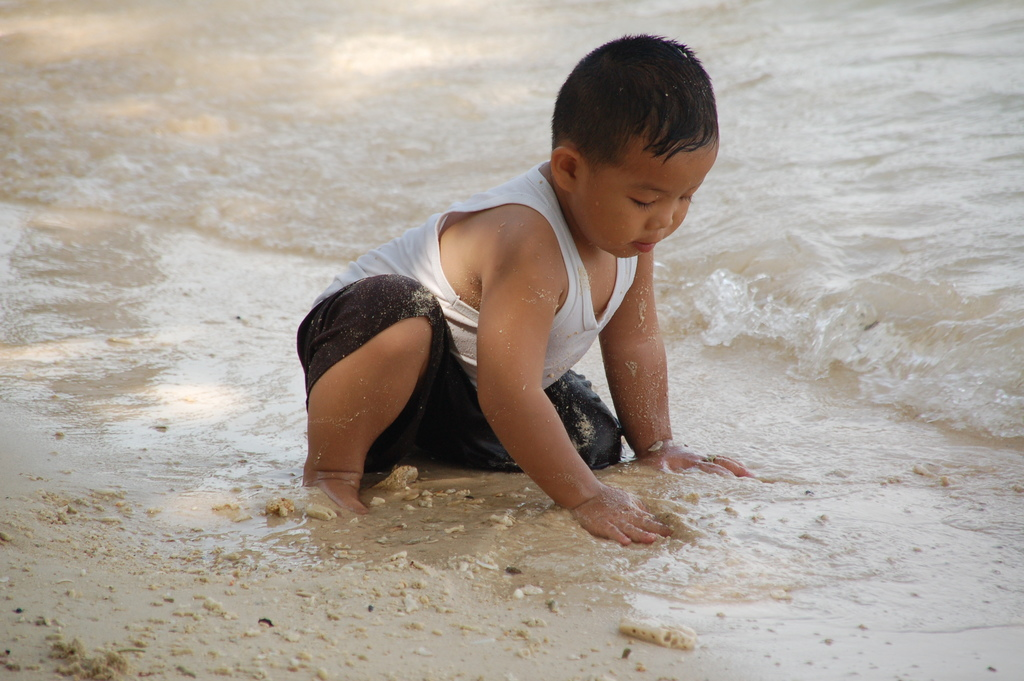face: (581, 127, 712, 260)
